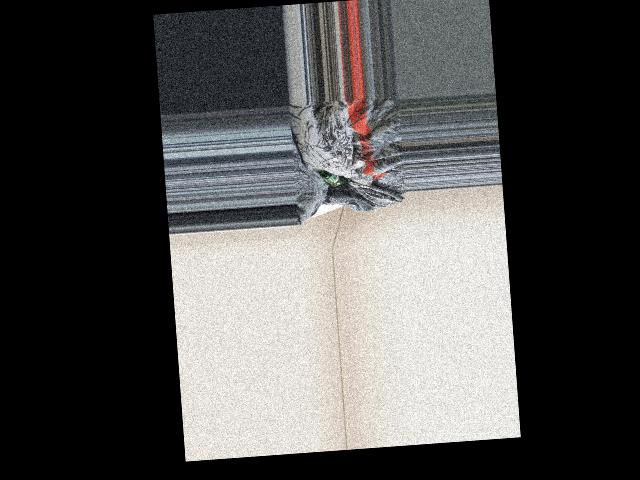beer: (319, 168, 349, 189)
